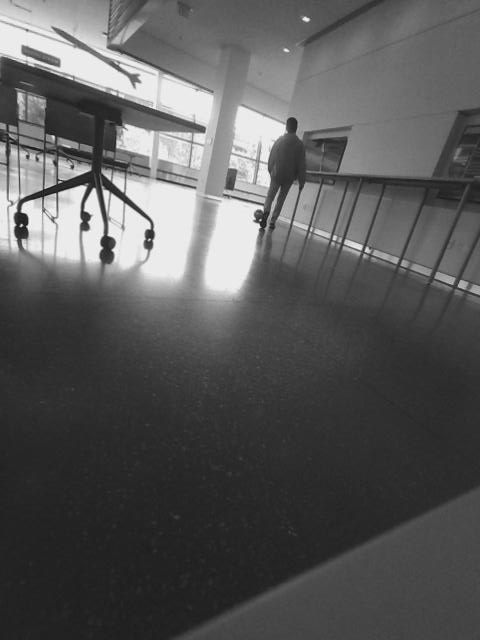ball: (252, 208, 264, 220)
